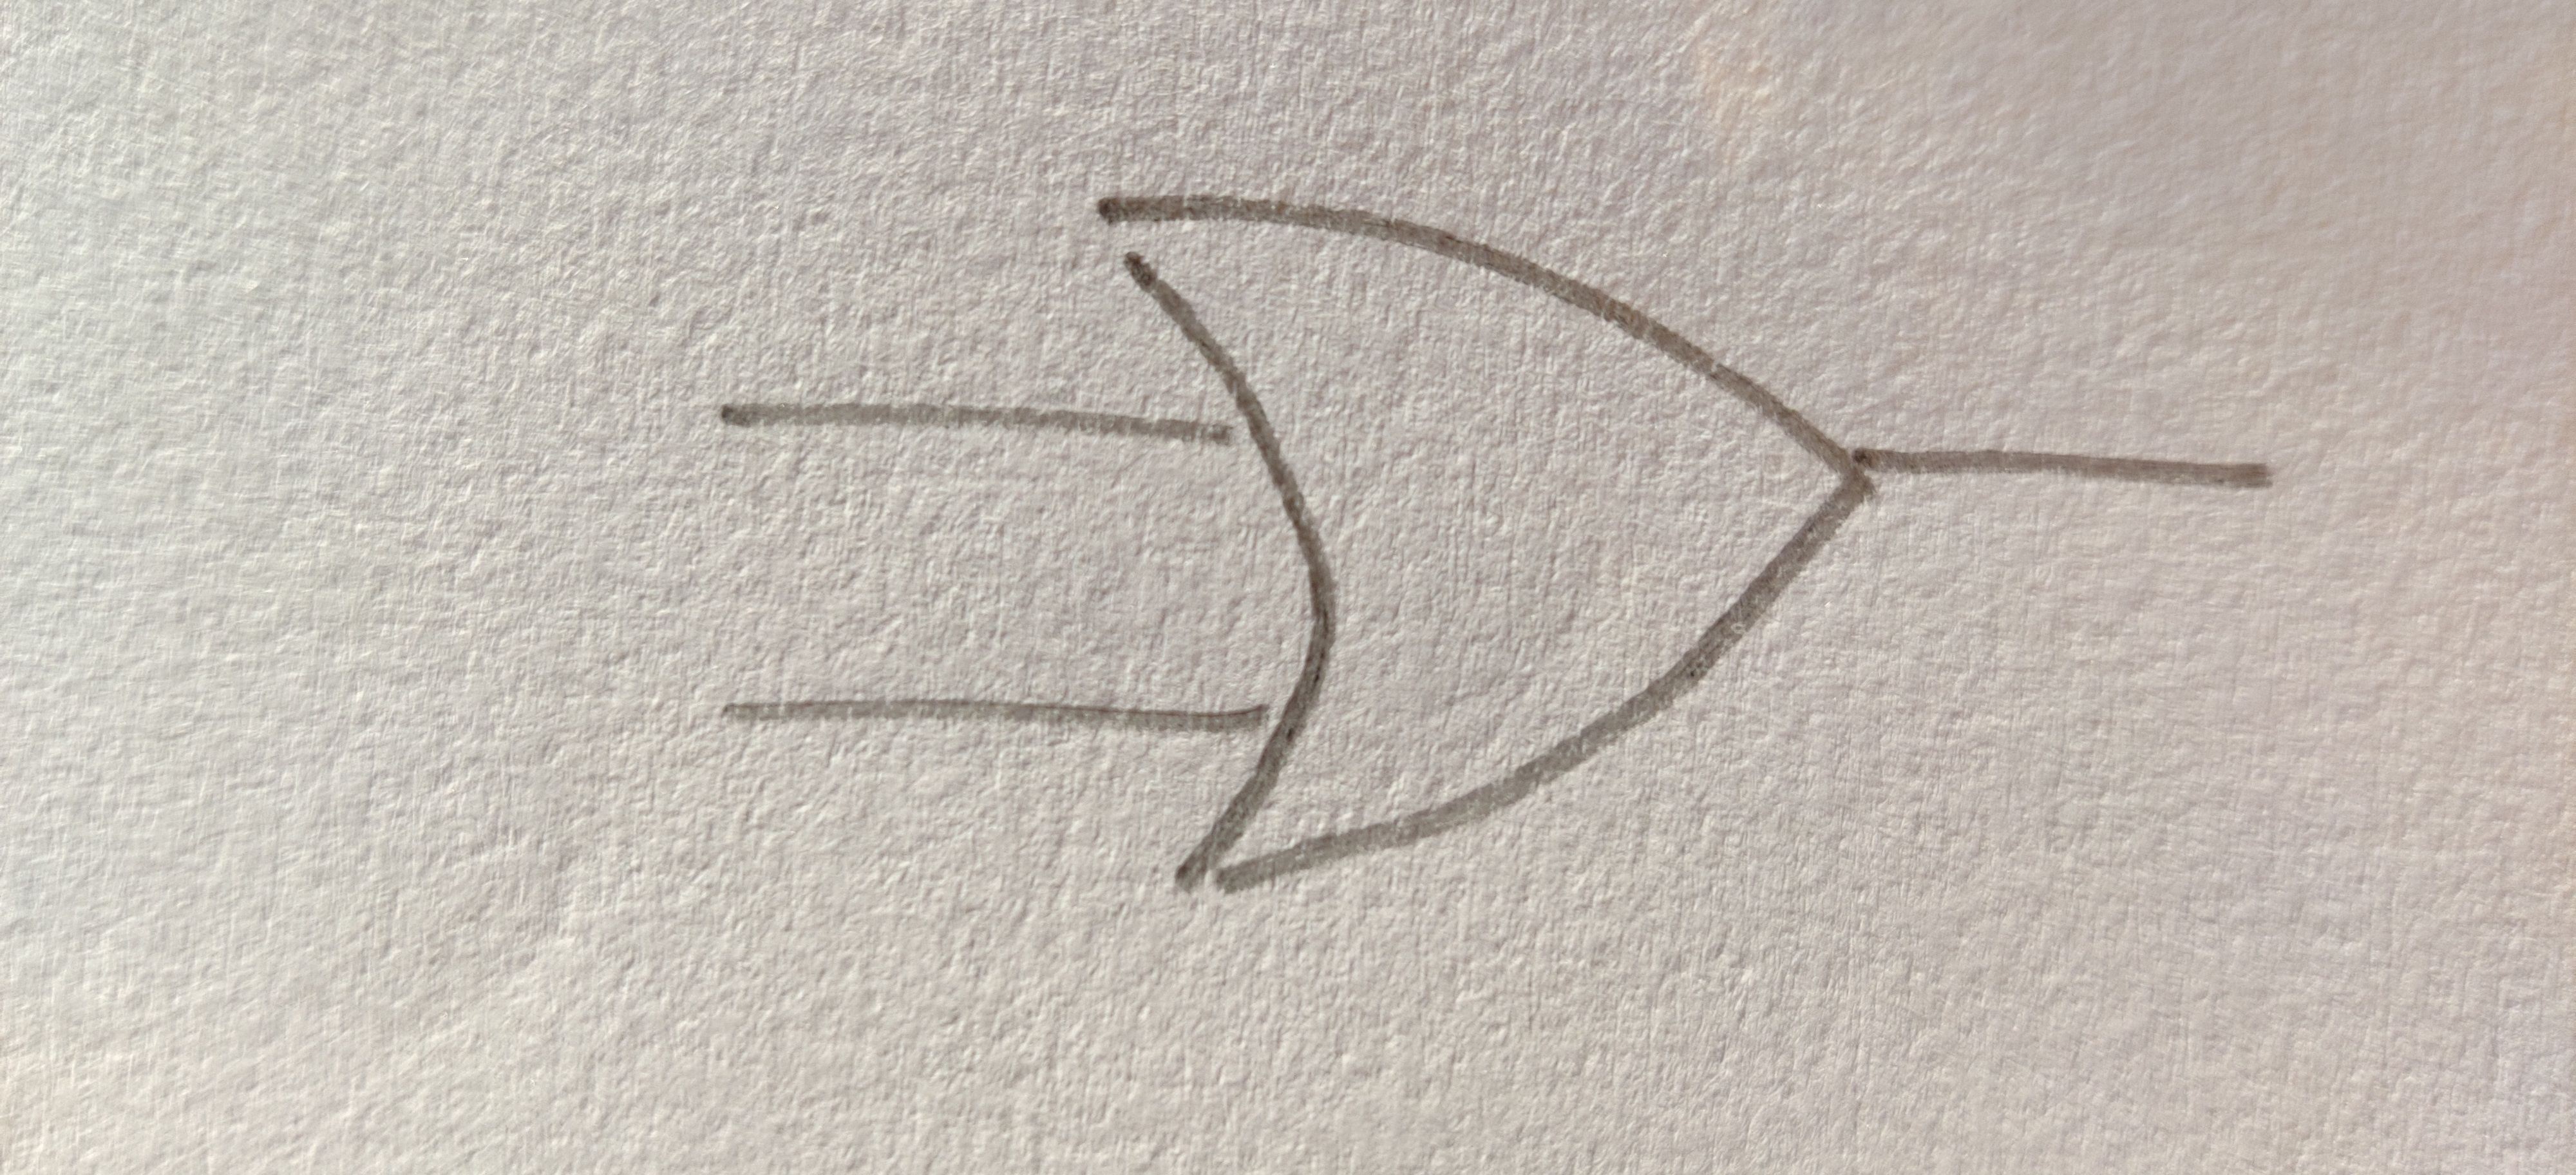or: (1102, 199, 1866, 894)
